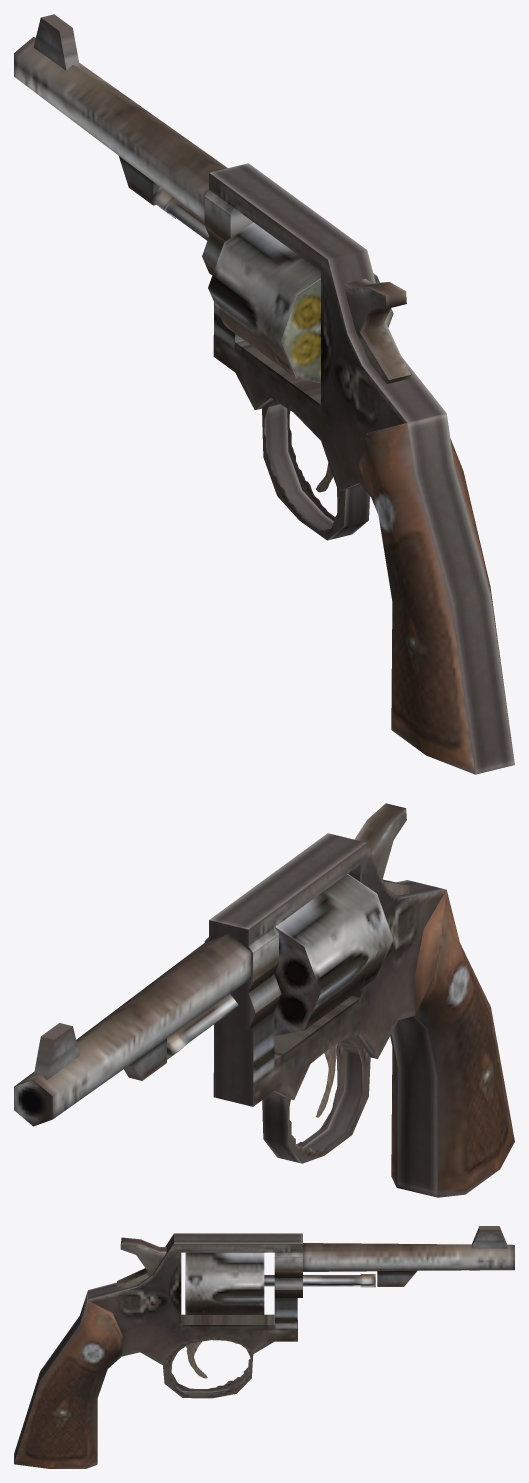
File: Revolver.fbx
3 views of the same model, one above another, from view 1: azimuth 30°, elevation 25°; view 2: azimuth 150°, elevation 25°; view 3: azimuth 270°, elevation 25° (orthographic). The views are drawn at different scales.
Visible parts, largest first — view 1: Revolver; view 2: Revolver; view 3: Revolver.
Part boxes in pixels (bbox=[...]): Revolver: bbox=[14, 14, 514, 774]; Revolver: bbox=[14, 803, 514, 1197]; Revolver: bbox=[14, 1226, 514, 1468].
Size of the model in its own units: 3.94 by 14.18 by 27.86.
